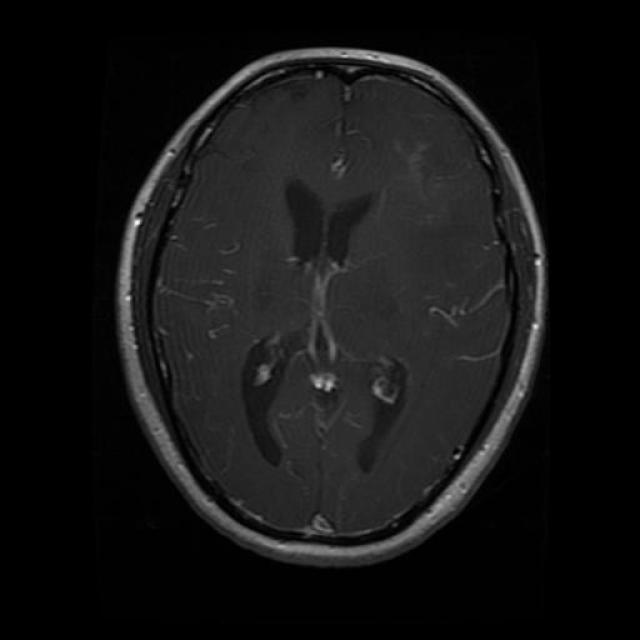glioma: (278, 168, 378, 276)
